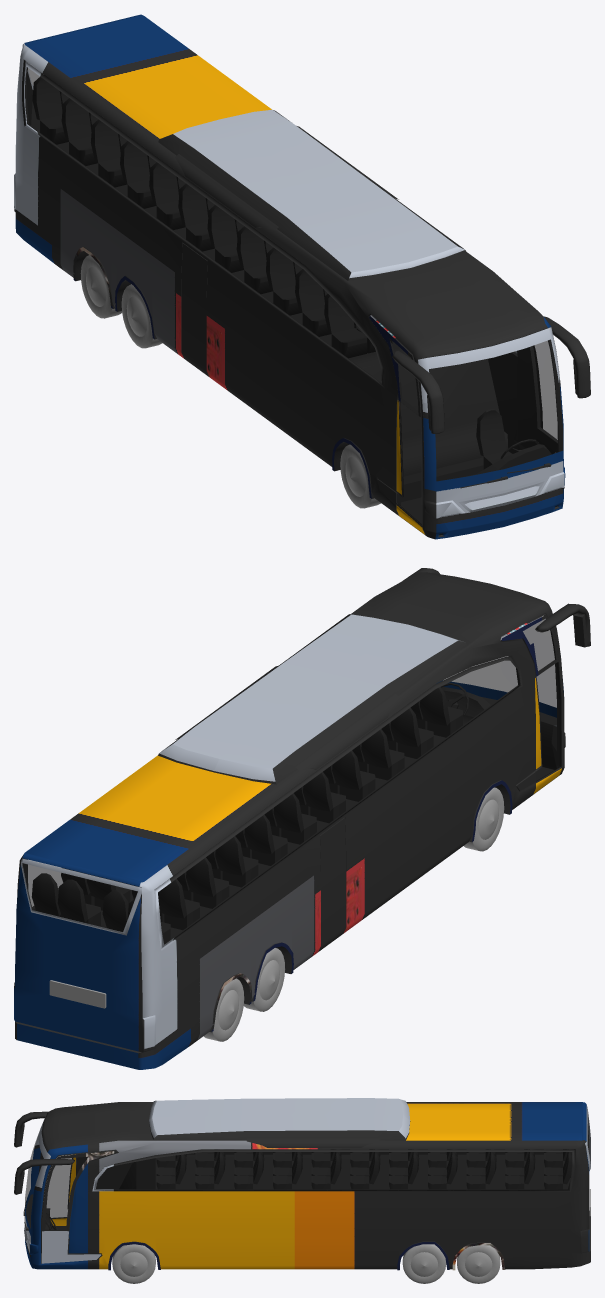
The model's file is Bus_09.fbx.
3 renders of one model, top to bottom at view 1: azimuth 30°, elevation 25°; view 2: azimuth 150°, elevation 25°; view 3: azimuth 270°, elevation 25°, orthographic. The views are drawn at different scales.
Parts seen in each view (by area): view 1: Bus_9body, Bus_9_Glass, Bus_9_Door_Glass, CR, FR, RR, Bus_9_Door; view 2: Bus_9body, Bus_9_Glass, Bus_9_Door_Glass, RR, FR, CR, Bus_9_Door, NumberPlate; view 3: Bus_9body, Bus_9_Glass, FL, CL, RL, Bus_9_Door_Glass, Bus_9_Door.
Boxes of the visible parts, left/top/right/bottom form: Bus_9body: left=14, top=14, right=590, bottom=539; Bus_9_Glass: left=25, top=67, right=562, bottom=480; Bus_9_Door_Glass: left=397, top=402, right=421, bottom=524; CR: left=121, top=284, right=162, bottom=348; FR: left=340, top=444, right=380, bottom=508; RR: left=80, top=255, right=121, bottom=318; Bus_9_Door: left=396, top=400, right=424, bottom=534; Bus_9body: left=14, top=568, right=590, bottom=1069; Bus_9_Glass: left=22, top=616, right=556, bottom=944; Bus_9_Door_Glass: left=536, top=662, right=560, bottom=780; RR: left=203, top=978, right=244, bottom=1041; FR: left=464, top=787, right=504, bottom=851; CR: left=243, top=948, right=285, bottom=1011; Bus_9_Door: left=533, top=662, right=561, bottom=793; NumberPlate: left=49, top=980, right=106, bottom=1008; Bus_9body: left=14, top=1098, right=590, bottom=1270; Bus_9_Glass: left=25, top=1114, right=590, bottom=1230; FL: left=112, top=1244, right=155, bottom=1283; CL: left=402, top=1244, right=446, bottom=1283; RL: left=457, top=1245, right=500, bottom=1283; Bus_9_Door_Glass: left=47, top=1158, right=71, bottom=1217; Bus_9_Door: left=43, top=1154, right=76, bottom=1225.
Bounding box in the file's own units: 230 × 308 × 1085.
